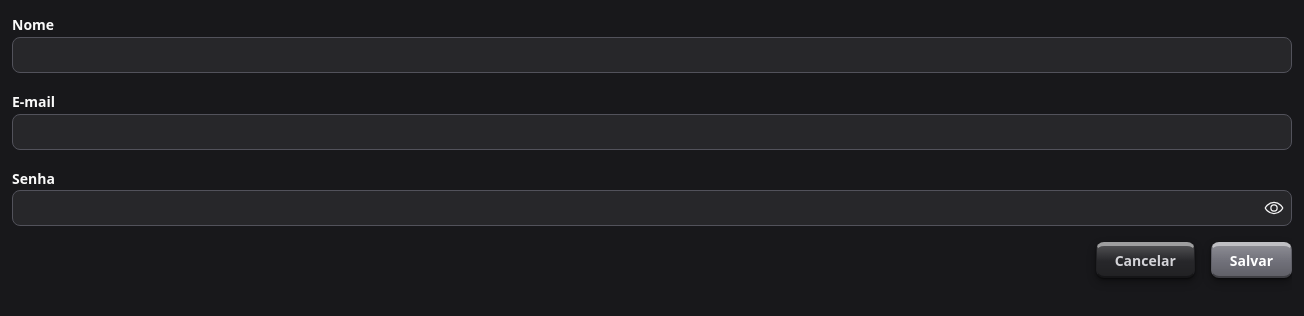
Test case: UserForm › mostra no campo o erro de validação que veio da API
Type "Kleber" into the field labelled "Nome" at (652, 55), box [12,37,1292,73]
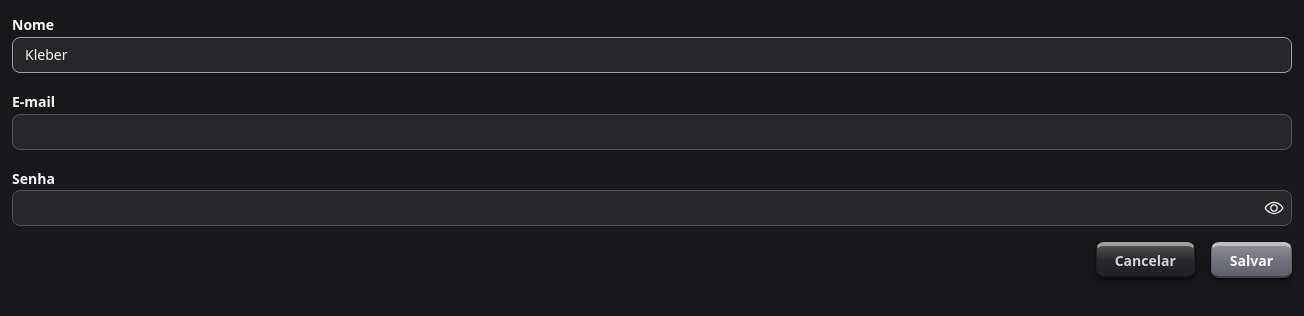
Type "k@x.com" into the field labelled "E-mail" at (652, 132), box [12,114,1292,150]
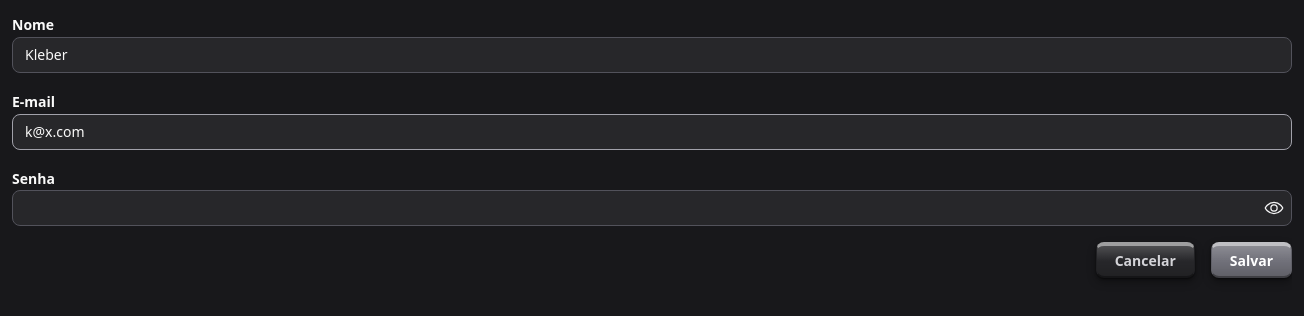
Type "123" into the password field labelled "Senha" at (652, 208), box [13,191,1291,225]
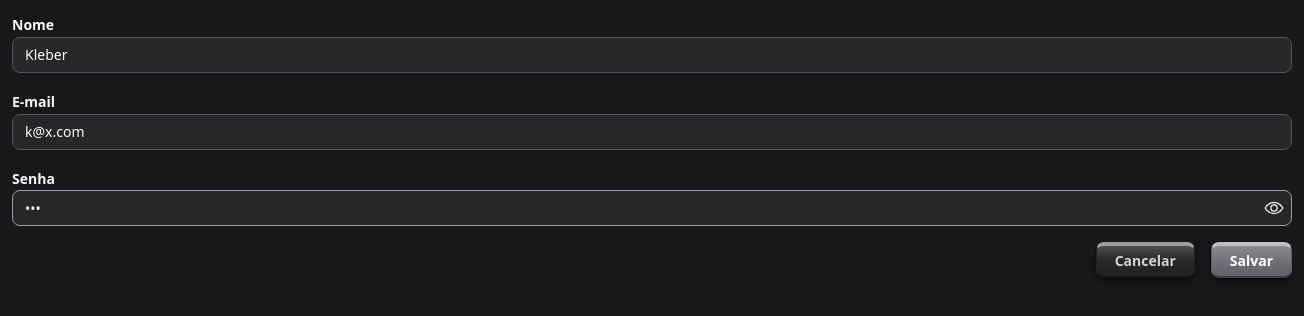
Click the button "Salvar" at (1251, 260), box [1211,242,1292,278]
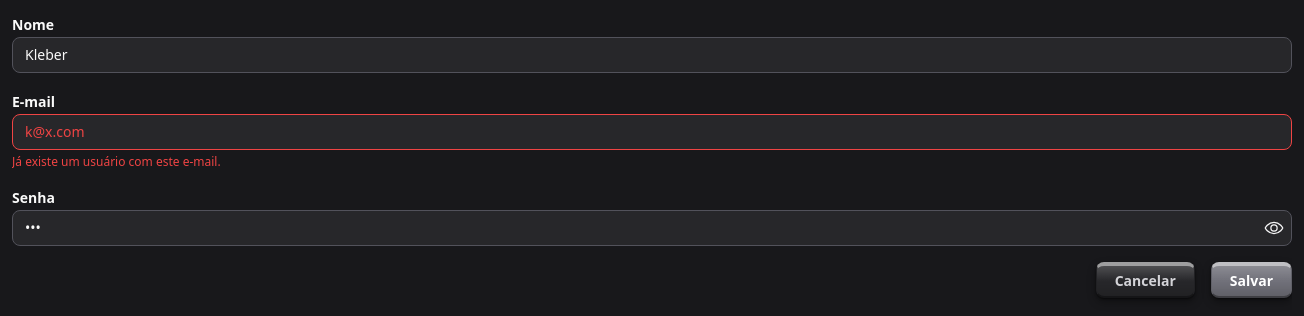
Expected: the text "Já existe um usuário com este e-mail." is shown, [12,153,221,170]
